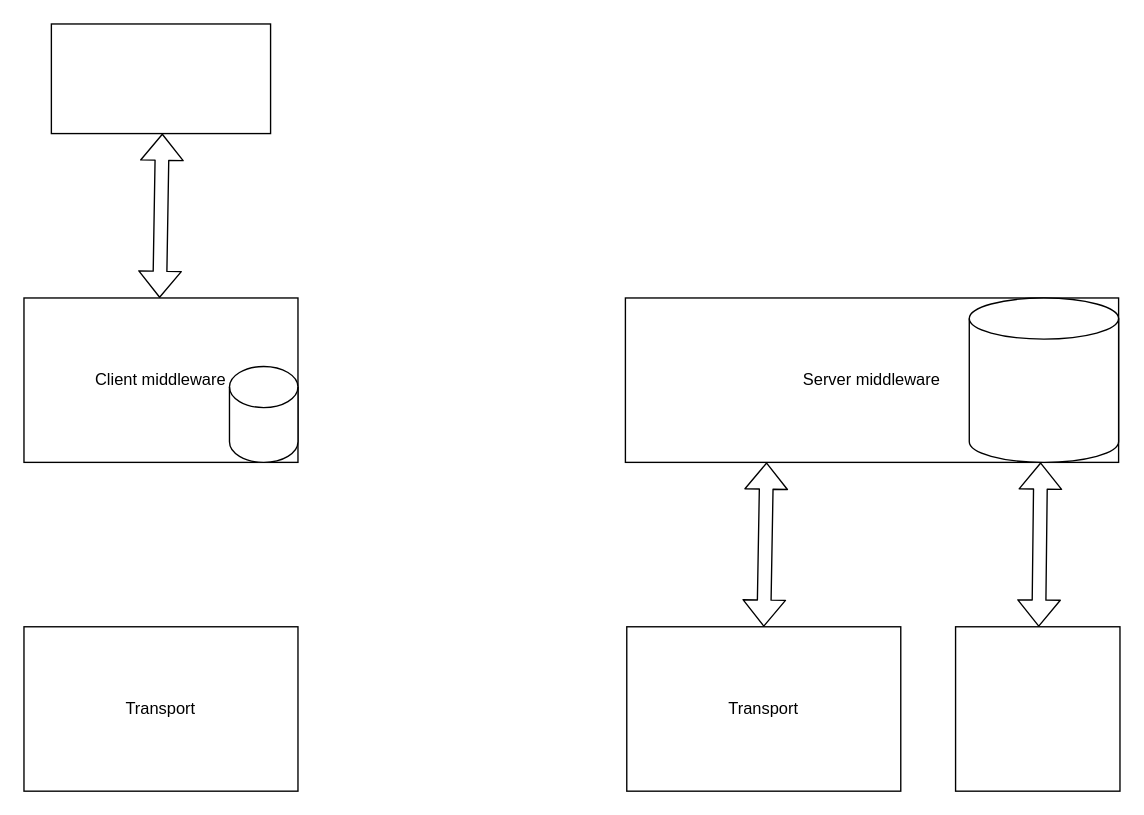
Some shapes in this 1144 by 815 pixel diagram are drawn without their labels. The shapes that lost their labels are listed below. From the top down, each one's centre as x and y in pixels, then its label:
At (x=160, y=78): "APP".
At (x=1037, y=708): "OS".
